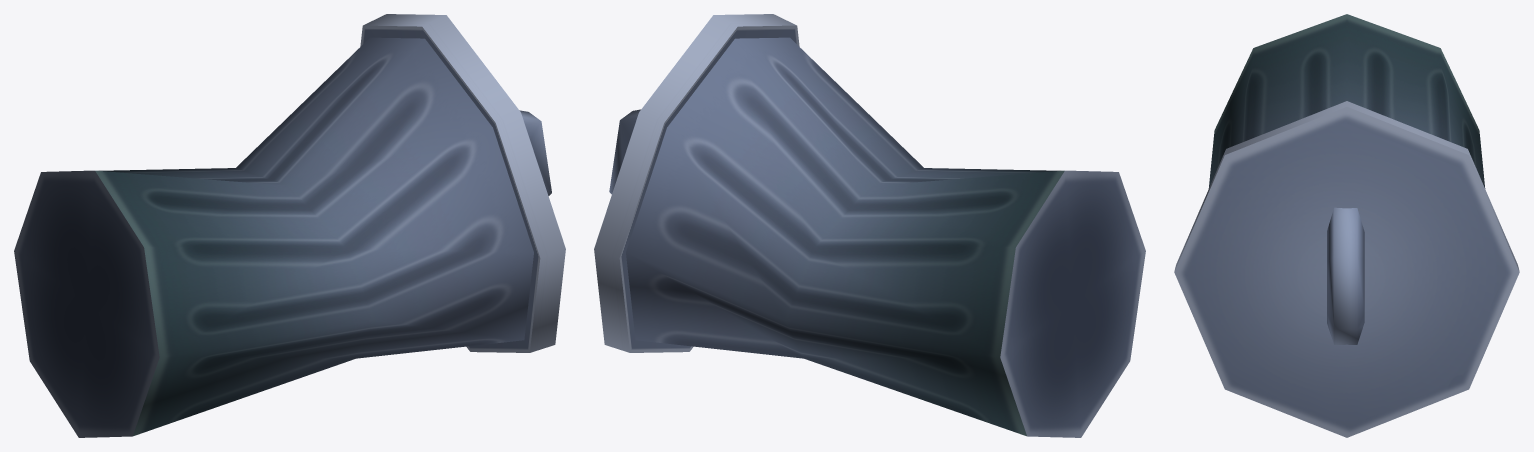
The model's file is prop_GarbageCanBent.fbx.
The picture shows the model from 3 angles, left to right: view 1: azimuth 30°, elevation 25°; view 2: azimuth 150°, elevation 25°; view 3: azimuth 270°, elevation 25°; orthographic projection. The views are drawn at different scales.
Parts seen in each view (by area): view 1: prop_GarbageCan02; view 2: prop_GarbageCan02; view 3: prop_GarbageCan02.
Boxes of the visible parts, x1,y1,x2,y2 form: prop_GarbageCan02: [14, 14, 565, 437]; prop_GarbageCan02: [594, 14, 1145, 437]; prop_GarbageCan02: [1174, 14, 1519, 437].
Bounding box in the file's own units: 248 × 174 × 175.
